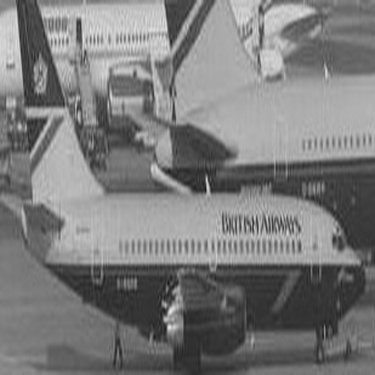airplane: (6, 1, 371, 369), (132, 1, 372, 256), (3, 7, 339, 143)
